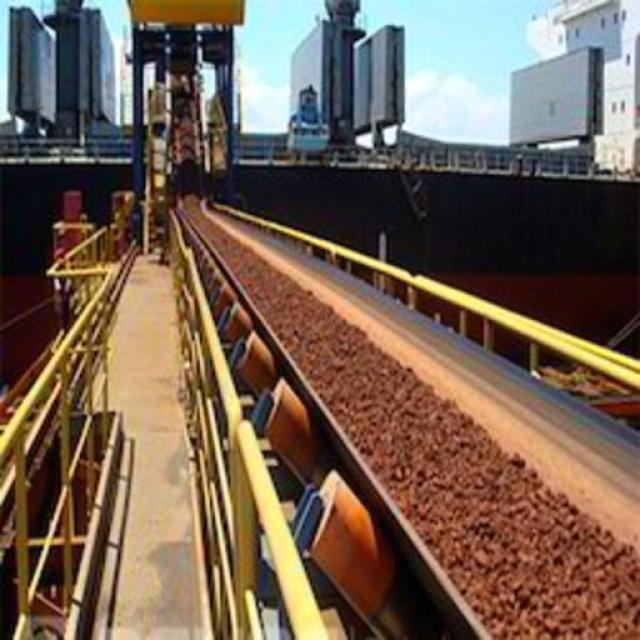conveyor: (178, 176, 640, 640)
